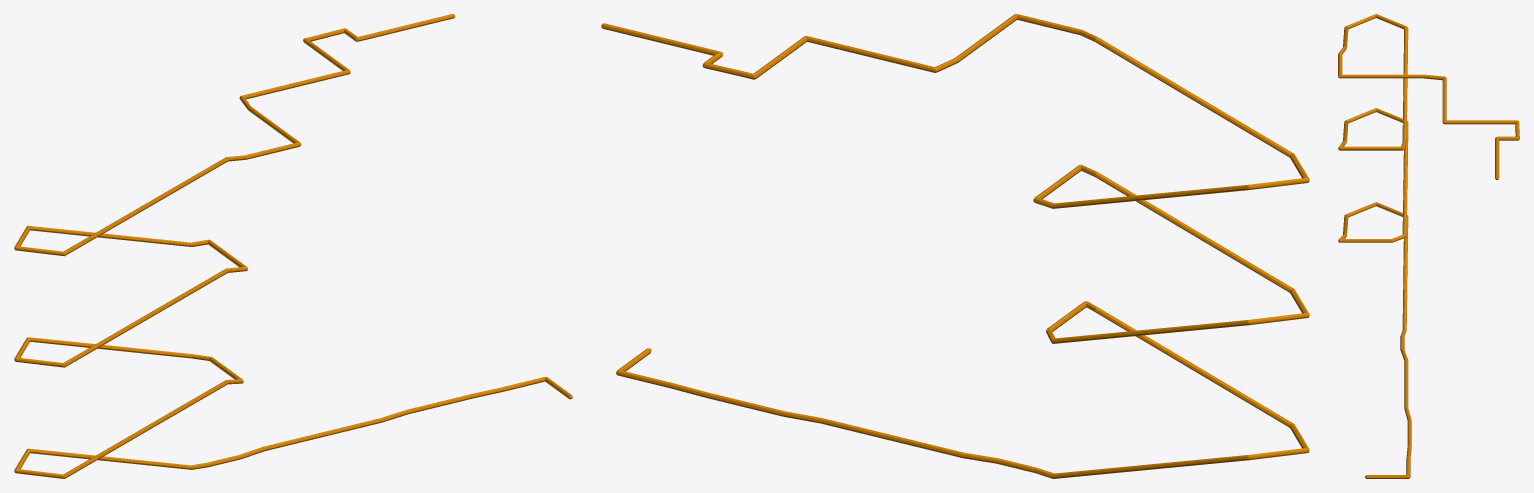
3 views of the same model, side by side, from view 1: azimuth 30°, elevation 25°; view 2: azimuth 150°, elevation 25°; view 3: azimuth 270°, elevation 25° (orthographic). The views are drawn at different scales.
Size of the model in its own units: 2595 by 1520 by 877.
